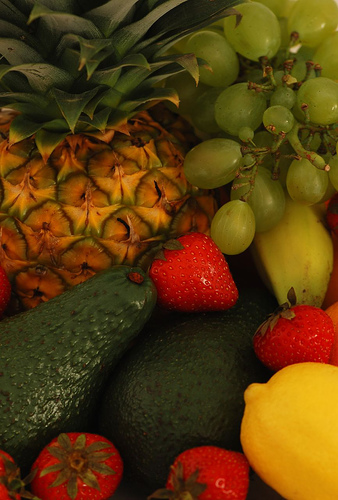pineapple: (0, 0, 215, 305)
